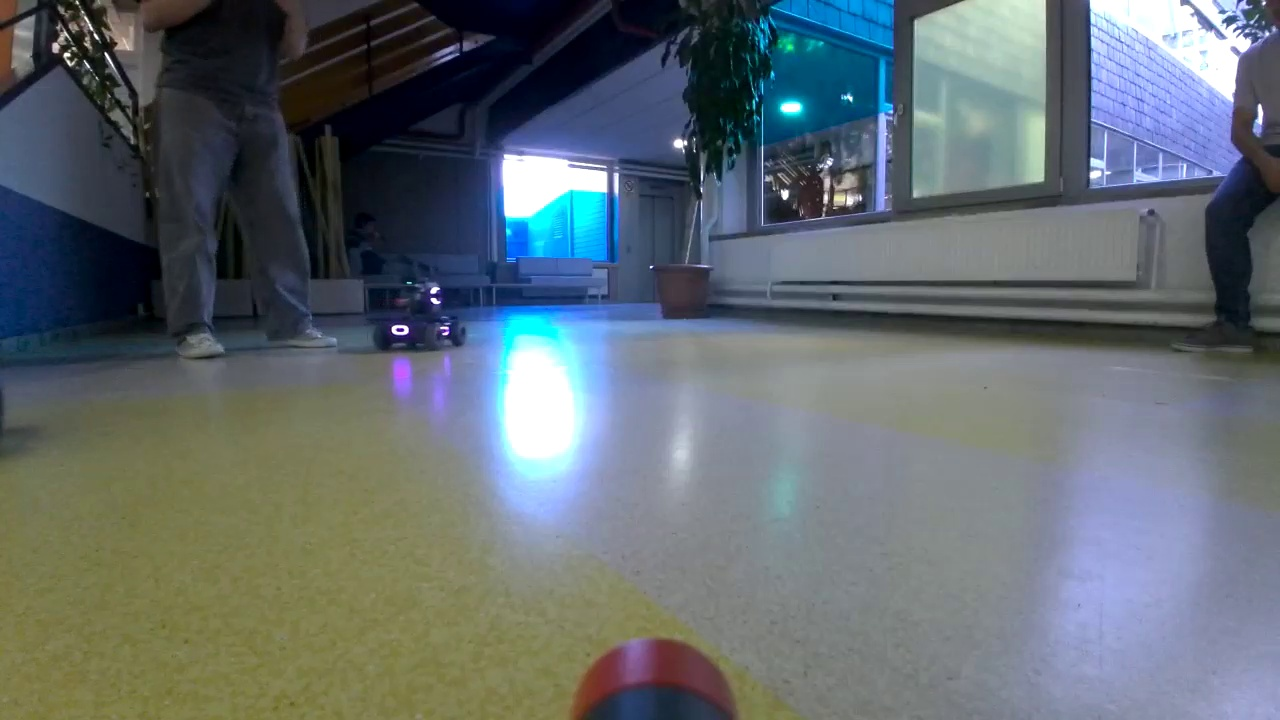robot: (372, 286, 468, 358)
